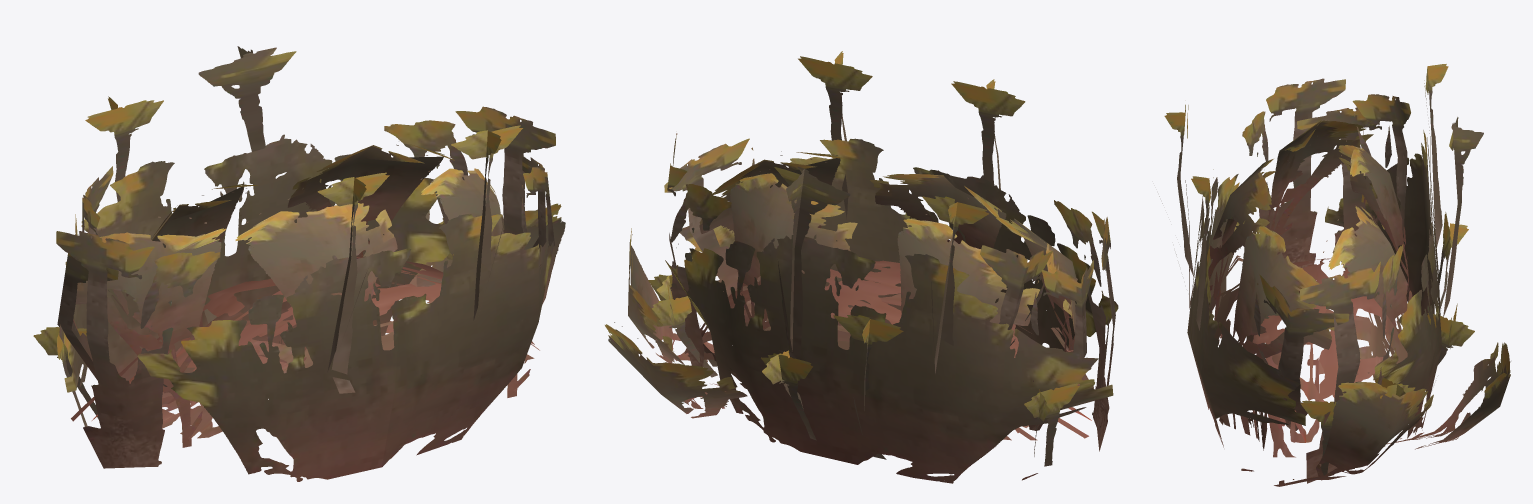
3 views of the same model, side by side, from view 1: azimuth 30°, elevation 25°; view 2: azimuth 150°, elevation 25°; view 3: azimuth 270°, elevation 25° (orthographic). The views are drawn at different scales.
Parts seen in each view (by area): view 1: body0_model0_lod0_mesh0; view 2: body0_model0_lod0_mesh0; view 3: body0_model0_lod0_mesh0.
Boxes of the visible parts, <box> form: body0_model0_lod0_mesh0: <box>33,46,565,481</box>; body0_model0_lod0_mesh0: <box>605,51,1118,483</box>; body0_model0_lod0_mesh0: <box>1159,64,1510,486</box>.
Size of the model in its own units: 69.52 by 47.62 by 47.56.
1 material, 1 textured.
